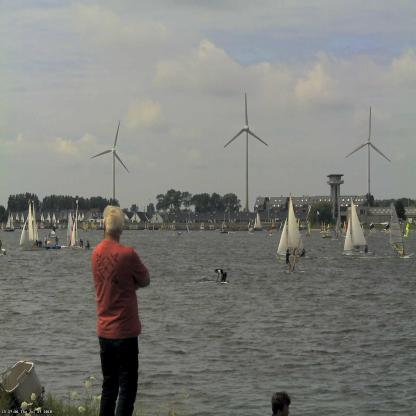other: (84, 236, 152, 338)
